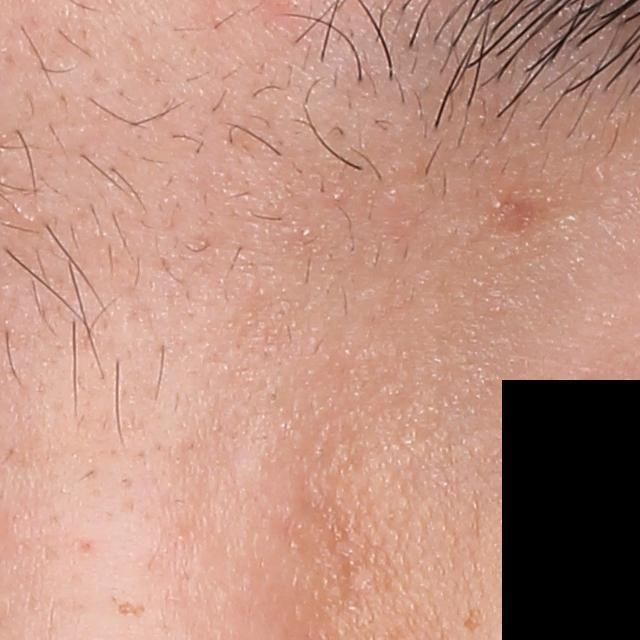melasma: (116, 599, 146, 622), (460, 608, 484, 629)
